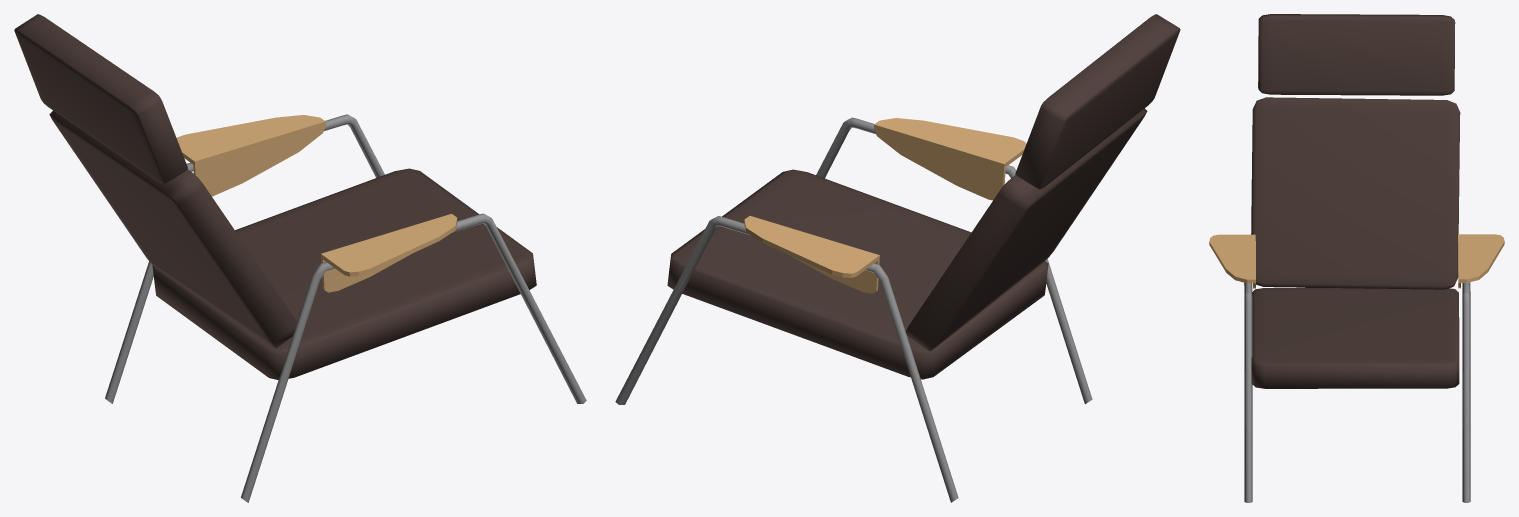
File: Chair_01.glb
3 renders of one model, left to right at view 1: azimuth 30°, elevation 25°; view 2: azimuth 150°, elevation 25°; view 3: azimuth 270°, elevation 25°, orthographic. The views are drawn at different scales.
Parts seen in each view (by area): view 1: Chair_01; view 2: Chair_01; view 3: Chair_01.
Boxes of the visible parts, x1,y1,x2,y2 form: Chair_01: [14, 14, 586, 502]; Chair_01: [615, 14, 1180, 502]; Chair_01: [1209, 14, 1504, 502].
Size of what is drawn, in the model's own units: 1.42 by 1.29 by 1.01.
1 material, 1 textured.
